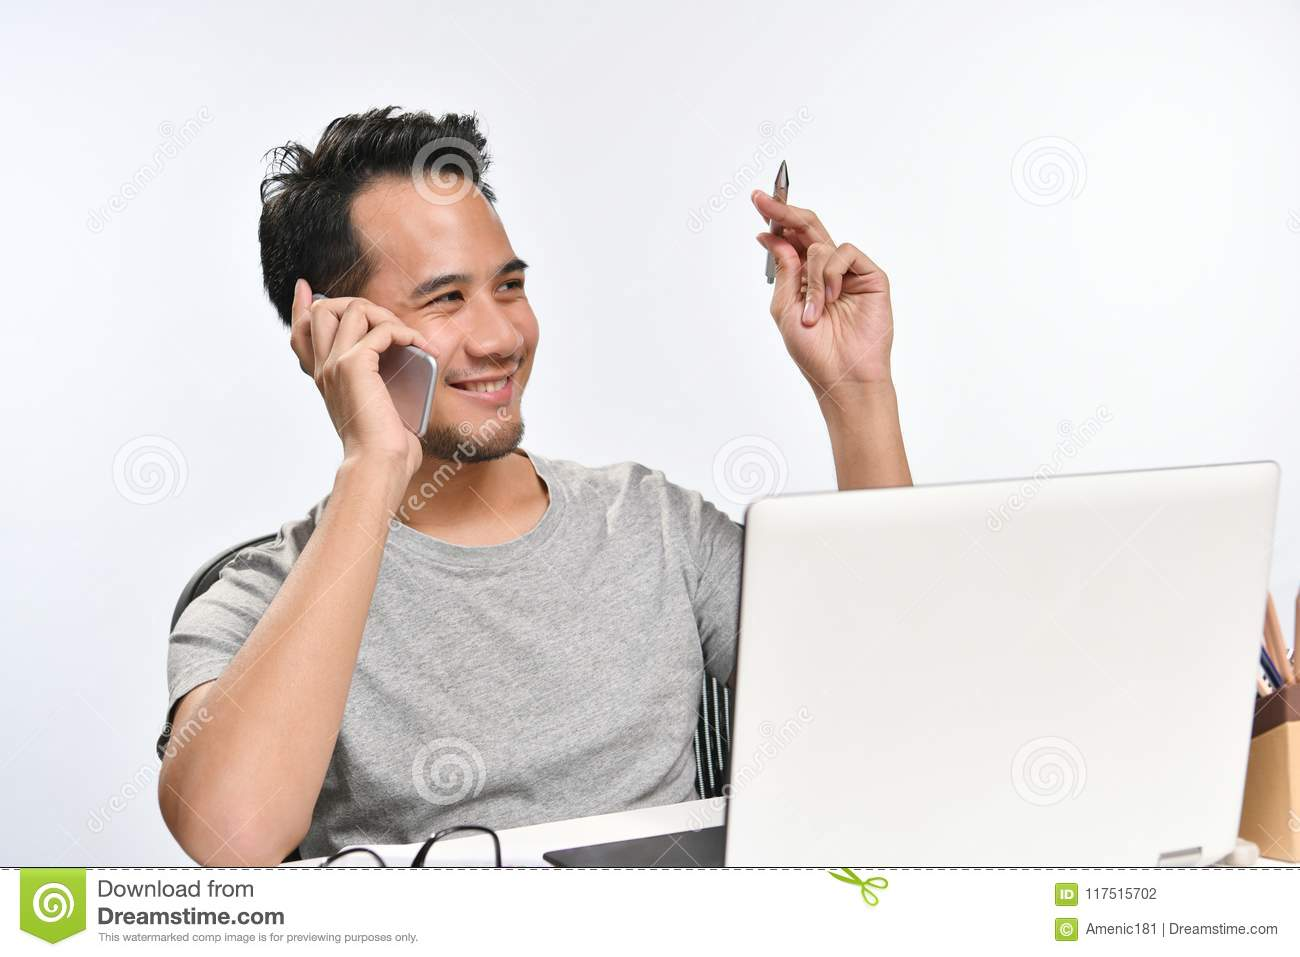phone: (305, 286, 443, 444)
talk: (291, 240, 544, 519)
